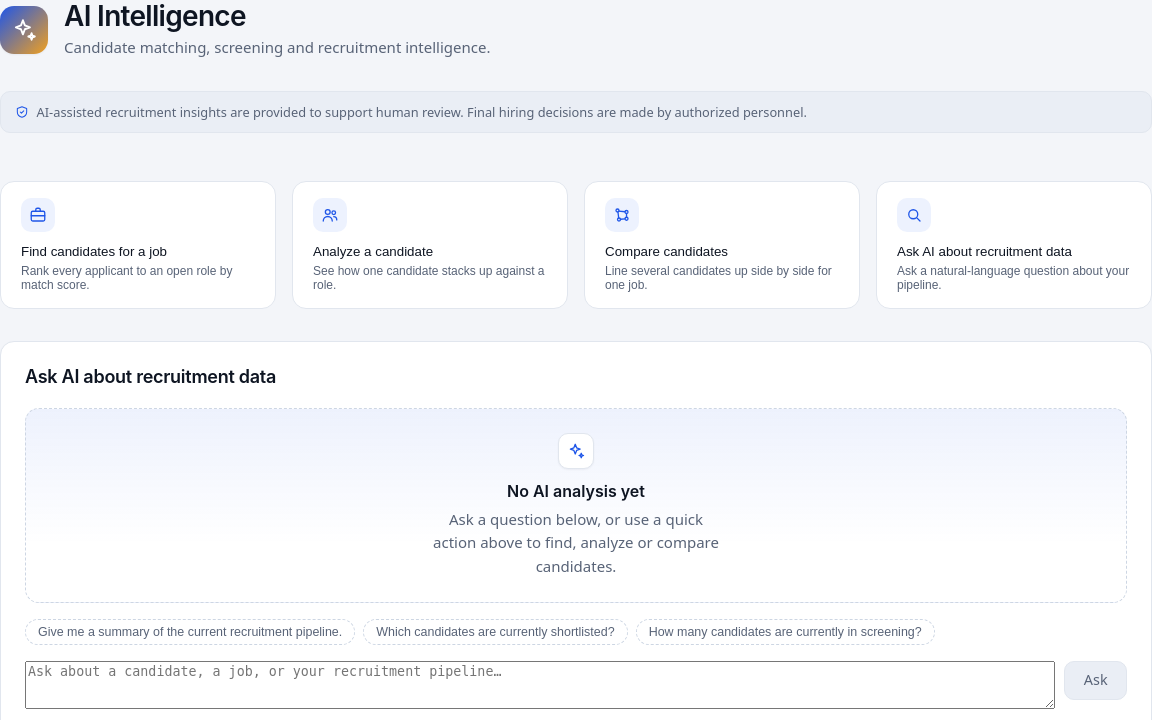
Test case: AiWorkspacePage › opens the job picker from the 'Find candidates for a job' quick action and navigates on selection
Click the text "Find candidates for a job".
click(94, 251)  # box [21,244,167,259]
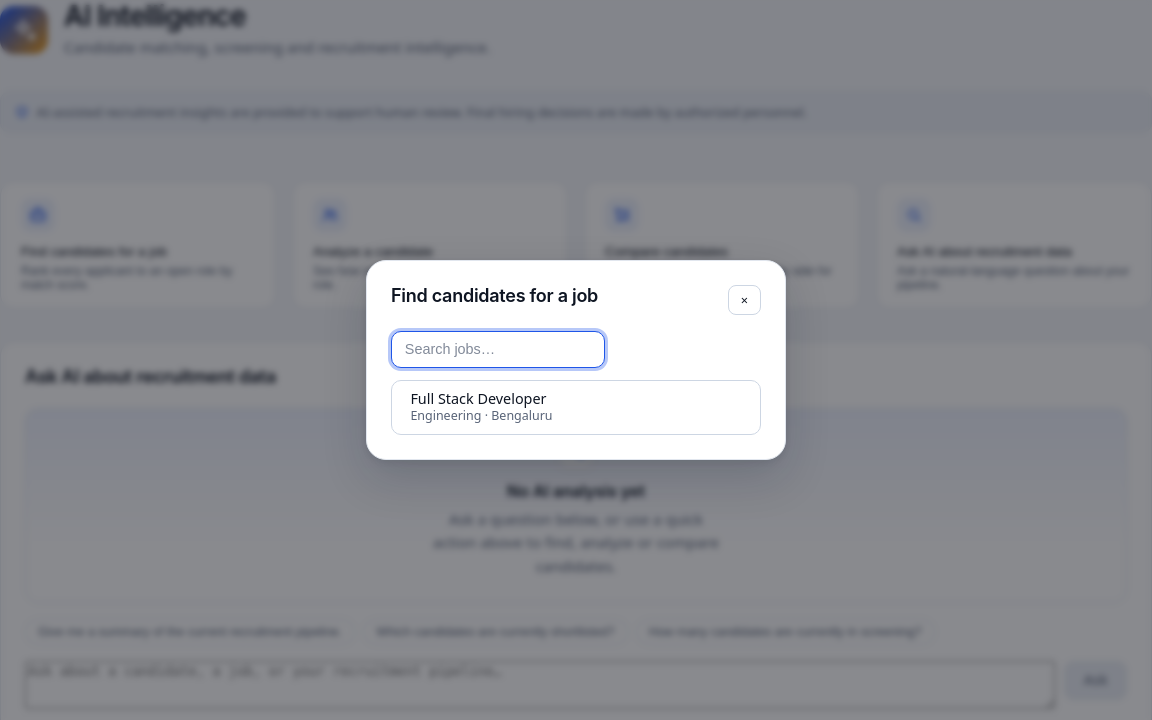
Click the button "Full Stack Developer".
click(478, 399)  # box [391,380,761,435]
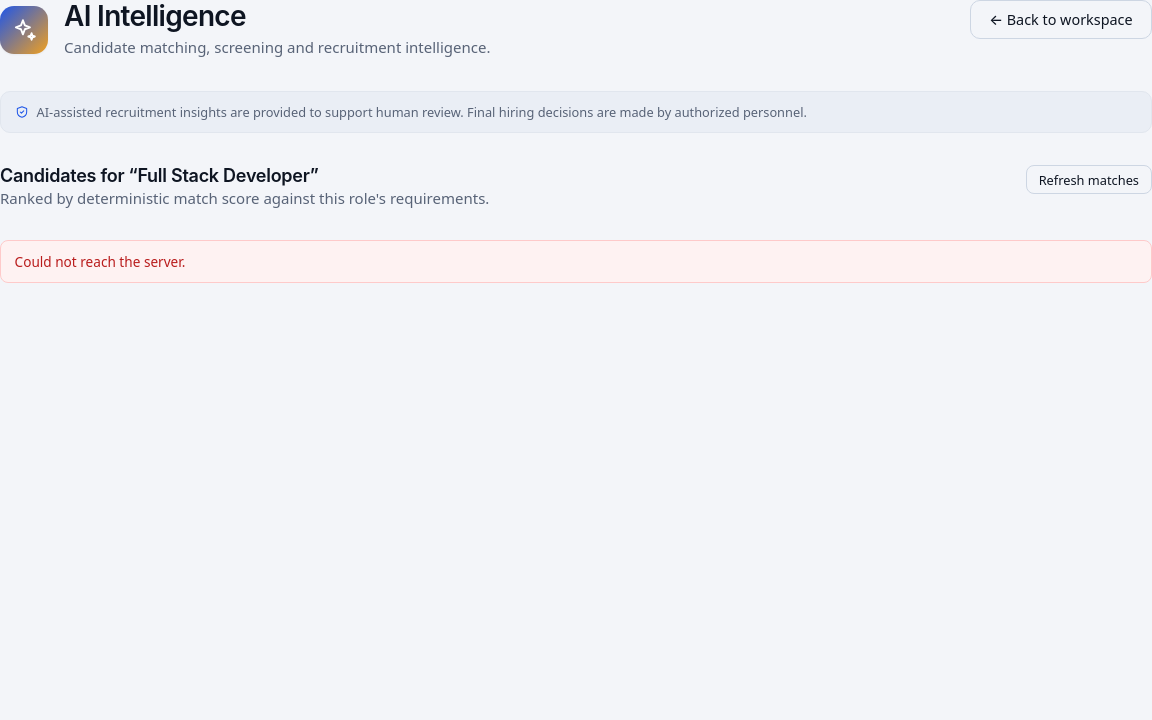
expect the heading "Candidates for “Full Stack Developer”" is shown: met, box [0,165,319,186]
